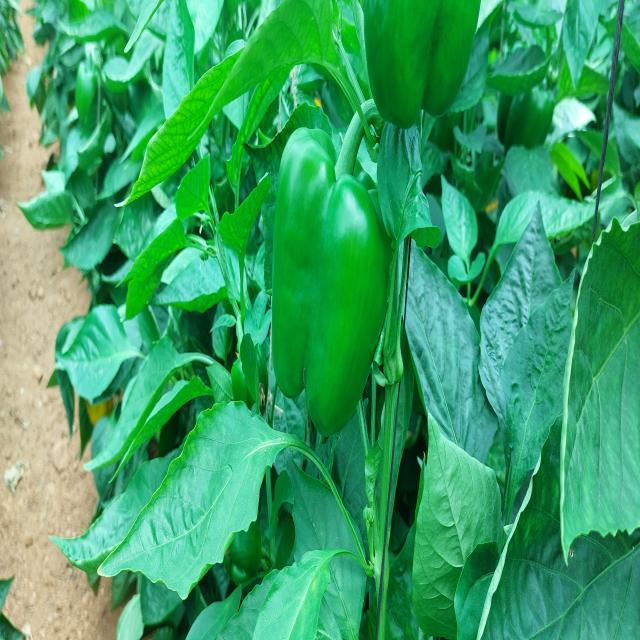Green--Not-ready-to-harvest: (270, 125, 392, 412), (364, 0, 482, 124)
